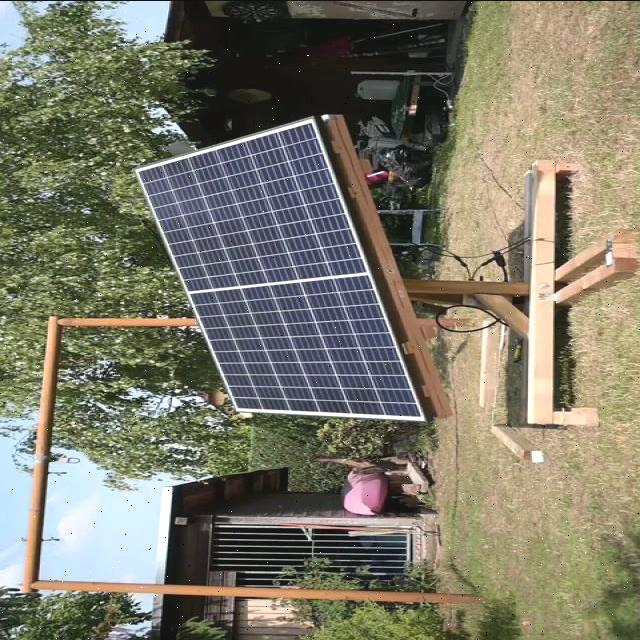Normal Solar Panel: (137, 117, 426, 420)
